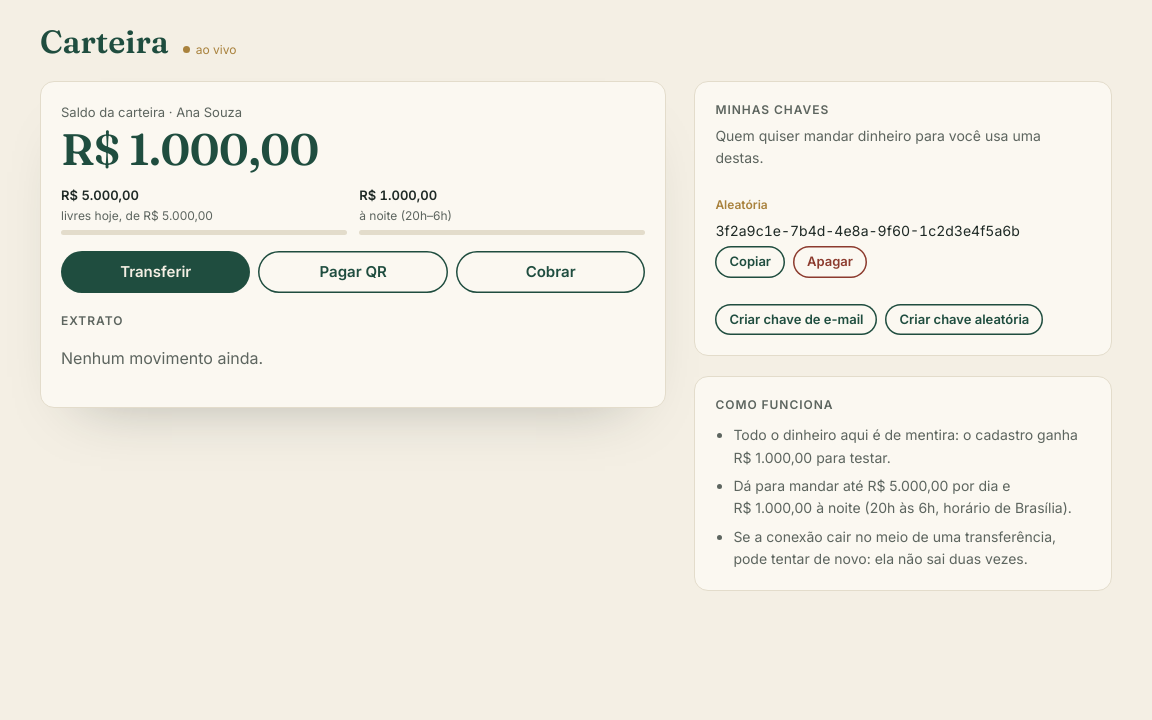
Minhas chaves › copia a chave e diz que copiou
Click the button "Copiar": (750, 262) [715,246,785,278]
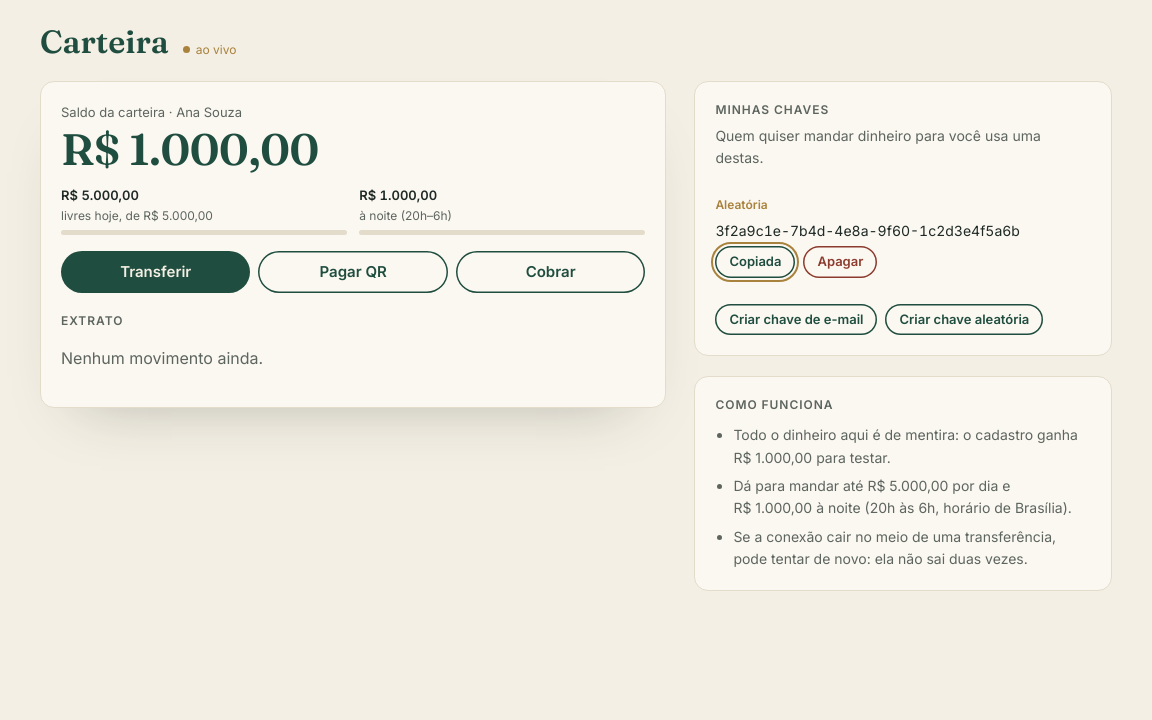
Now the button "Copiada" is shown, box [715,246,796,278]
